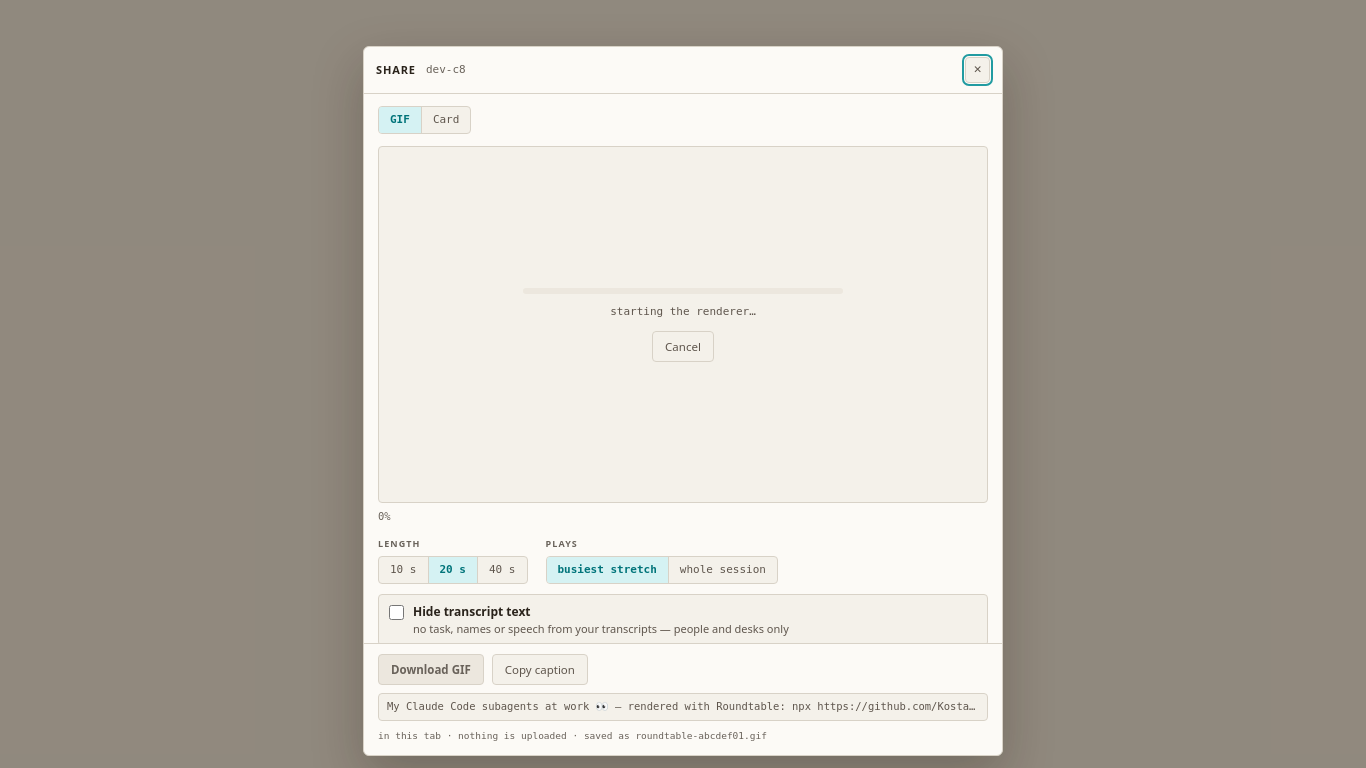
the caption › goes to the clipboard when the browser allows it
The image size is (1366, 768).
Click the button "Copy caption" at (540,669), box [492,654,588,685]
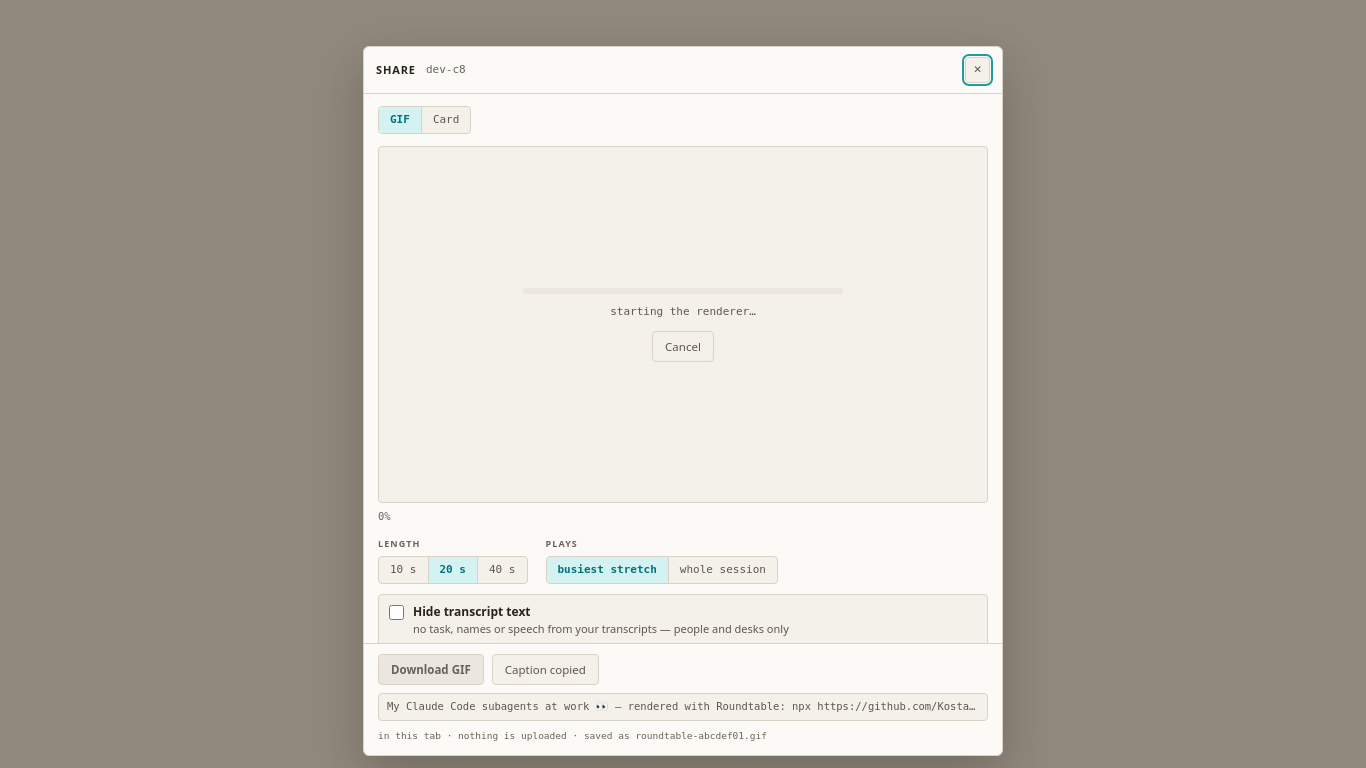
Expected: the text "Caption copied" is shown, [492,654,599,685]
